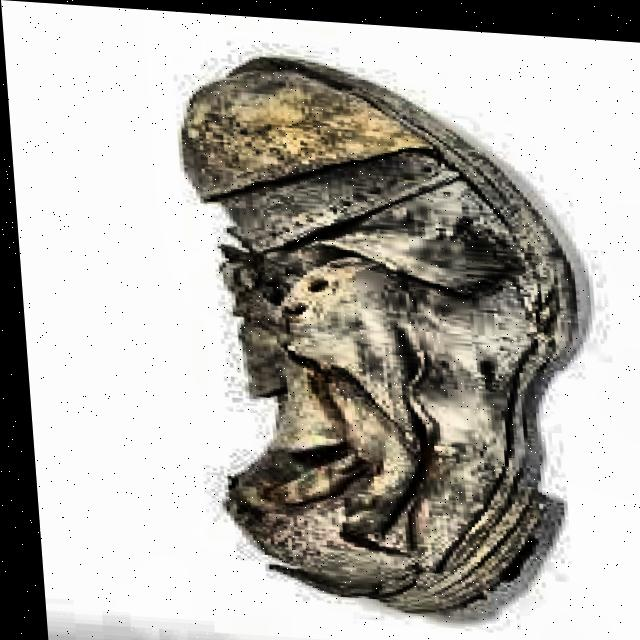shoes: (134, 26, 620, 640)
